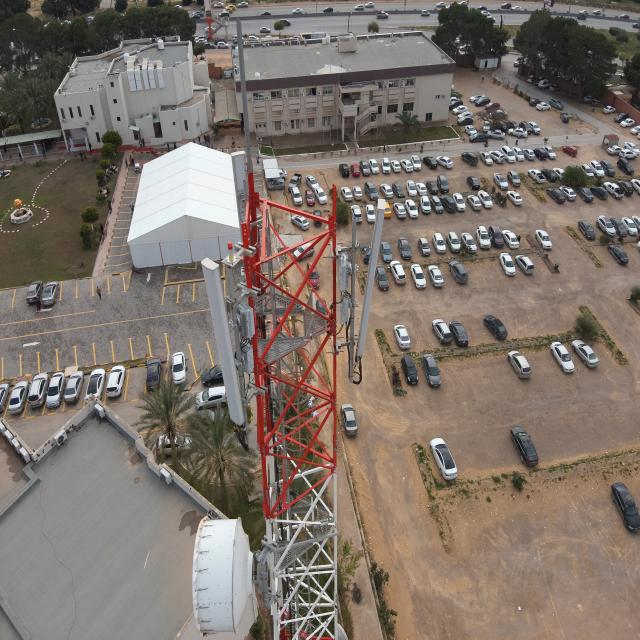Ground Based: (187, 20, 378, 640)
